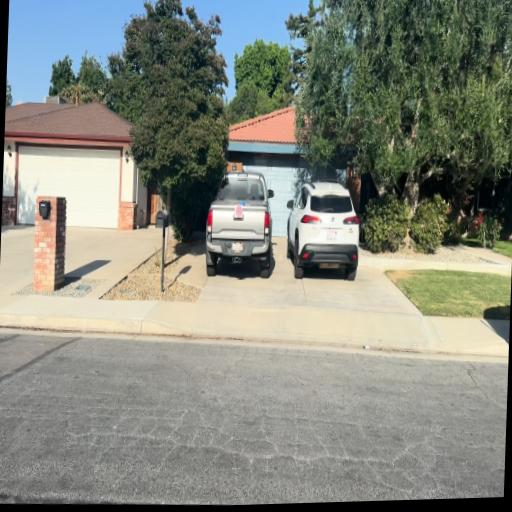bullseye: (235, 205, 242, 218)
